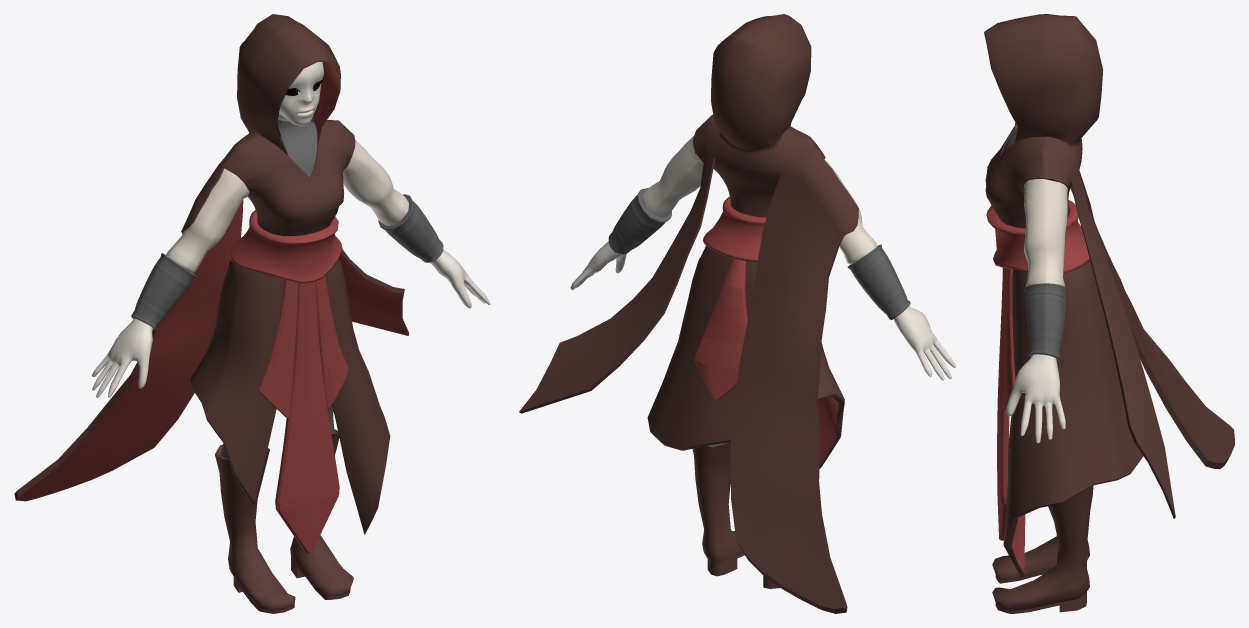
The model's file is PlayerDraft.fbx.
3 renders of one model, left to right at view 1: azimuth 30°, elevation 25°; view 2: azimuth 150°, elevation 25°; view 3: azimuth 270°, elevation 25°, orthographic. The views are drawn at different scales.
Parts seen in each view (by area): view 1: player; view 2: player; view 3: player.
Part boxes in pixels (bbox=[...]): player: bbox=[14, 14, 490, 613]; player: bbox=[519, 14, 955, 613]; player: bbox=[984, 14, 1234, 613].
Bounding box in the file's own units: 12.29 × 16.97 × 6.71.
